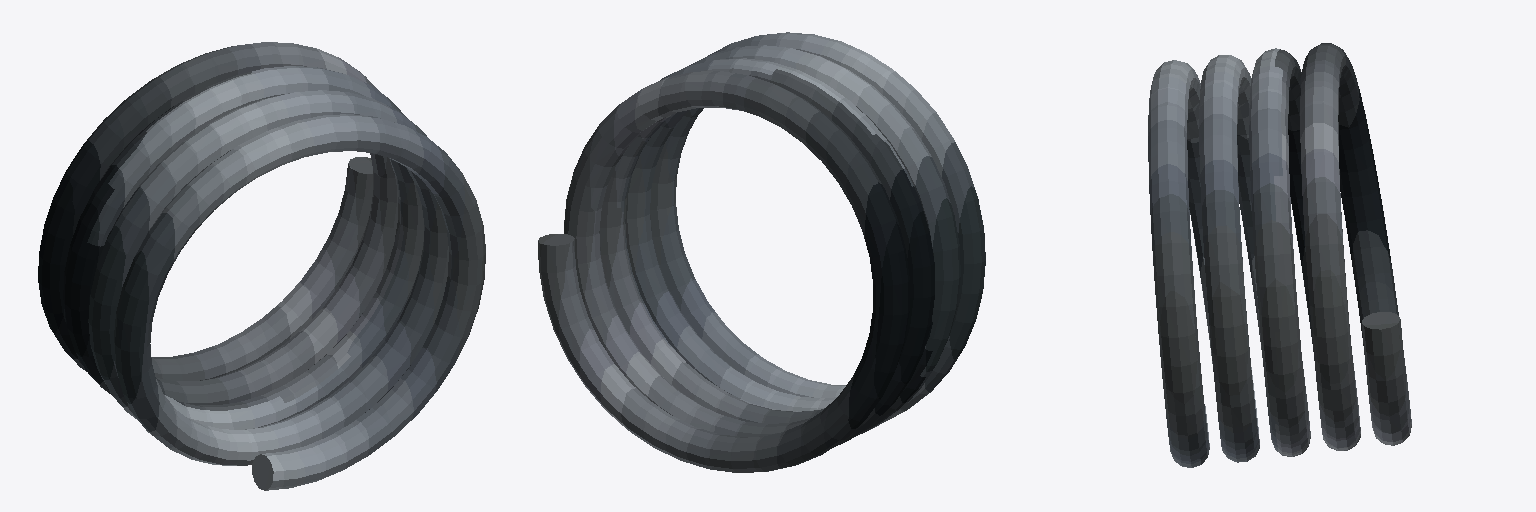
The picture shows the model from 3 angles: view 1: azimuth 30°, elevation 25°; view 2: azimuth 150°, elevation 25°; view 3: azimuth 270°, elevation 25°; orthographic projection.
Parts seen in each view (by area): view 1: resorte; view 2: resorte; view 3: resorte.
Boxes of the visible parts, box(x1,y1,x2,y2) form: resorte: box(38, 42, 485, 490); resorte: box(538, 32, 985, 472); resorte: box(1148, 43, 1411, 467).
Size of the model in its own units: 0.3708 by 0.3874 by 0.2396.
1 materials, 1 textured.